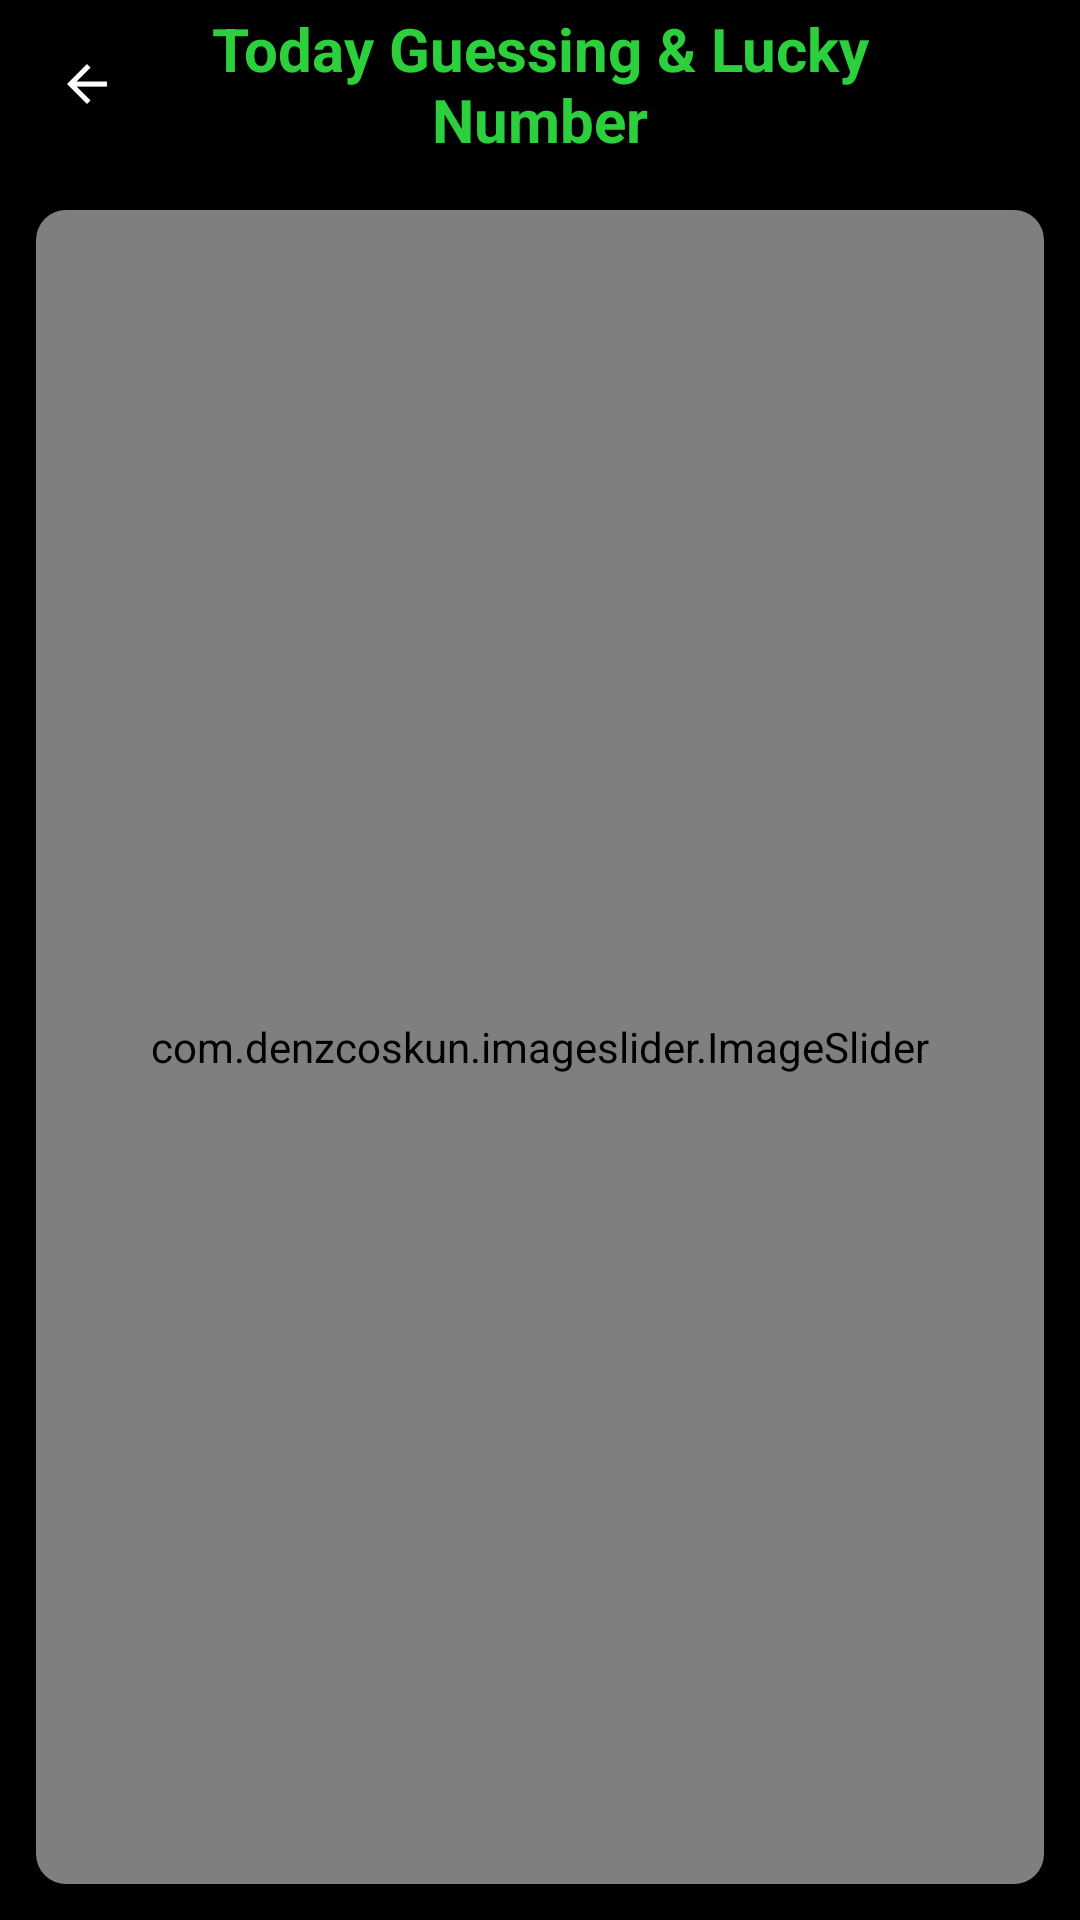

Named icons in this screenshot (1080px×1920px) and their bounding boxes, (x1, y1, x2, y2):
arrow back: (67, 64, 107, 104)
